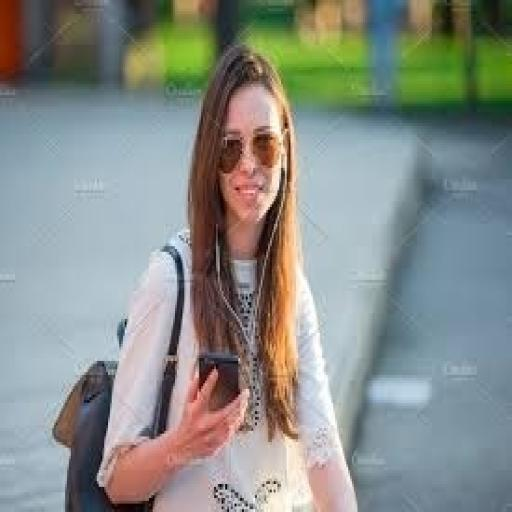listening_to_music: (95, 42, 361, 509)
